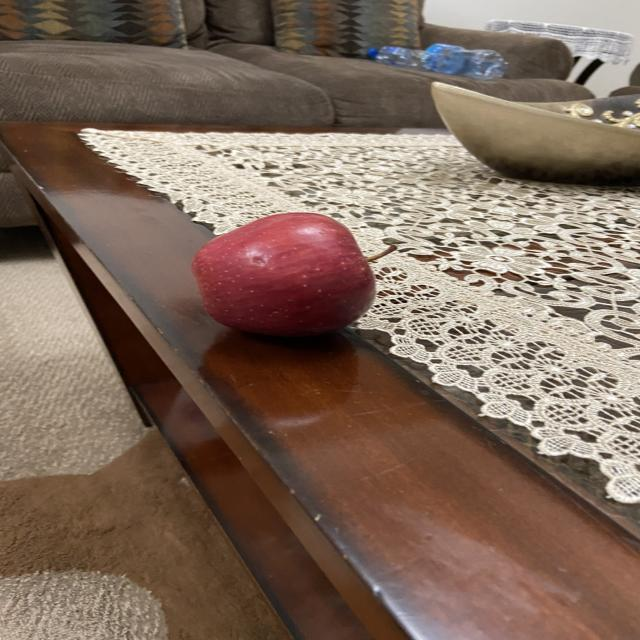apple: (190, 208, 402, 338)
